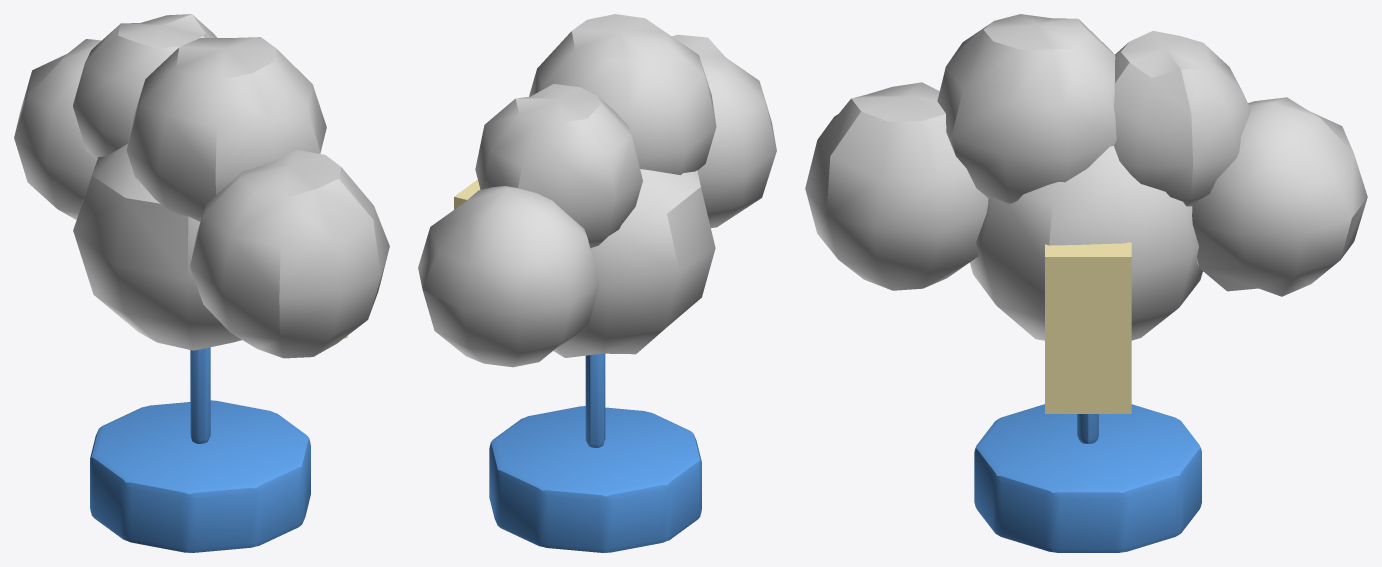
Rendered from RailSky.fbx.
3 views of the same model, side by side, from view 1: azimuth 30°, elevation 25°; view 2: azimuth 150°, elevation 25°; view 3: azimuth 270°, elevation 25° (orthographic). The views are drawn at different scales.
Parts seen in each view (by area): view 1: RailSky; view 2: RailSky; view 3: RailSky.
Boxes of the visible parts, box(x1,y1,x2,y2) form: RailSky: box(14, 14, 389, 552); RailSky: box(418, 14, 776, 552); RailSky: box(805, 14, 1367, 552).
Size of the model in its own units: 94.51 by 186 by 195.
